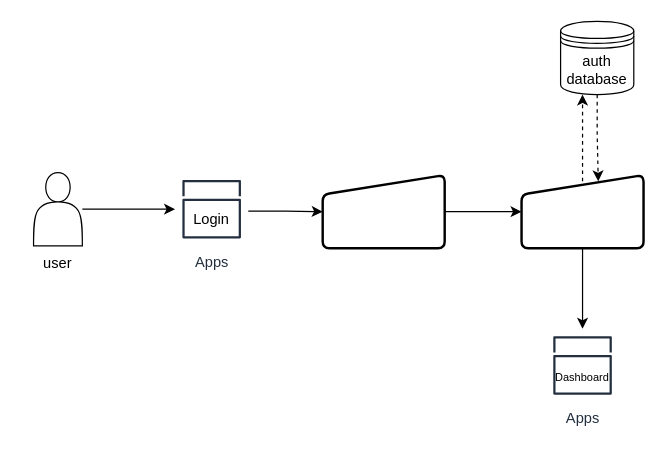
This 665x449 diagram has some shape labels left out. Each missing label, with the centre of its shape:
"Autentikasi ke database" belongs at point 582,211.
"validasi form" belongs at point 383,211.
